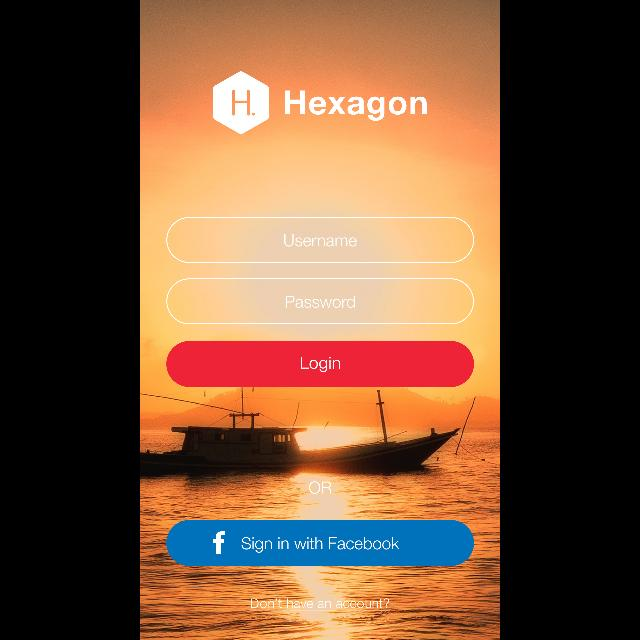backgroundimage: (140, 1, 500, 640)
image: (213, 72, 269, 134)
input: (166, 217, 474, 263), (166, 279, 474, 325)
text: (285, 90, 427, 122), (250, 598, 390, 610), (284, 235, 358, 247), (285, 296, 355, 308), (308, 482, 332, 494)
textbutton: (166, 341, 474, 387), (166, 520, 474, 566)
